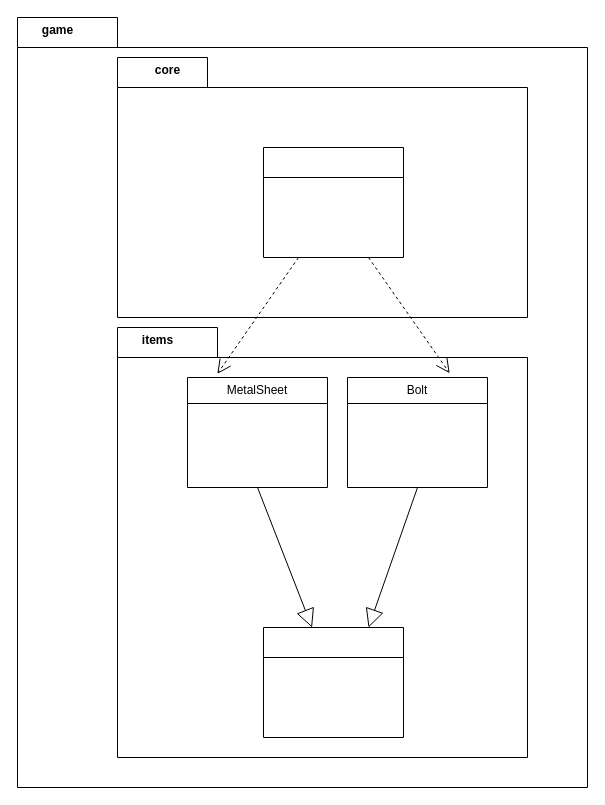
Image size: 605x805. Some labels were removed from this diagram. The box of each missing label's shape, as (x1, y1, x2, y2) in pixels:
<<abstract>> Item: (262, 626, 404, 738)
Application: (262, 146, 404, 258)
